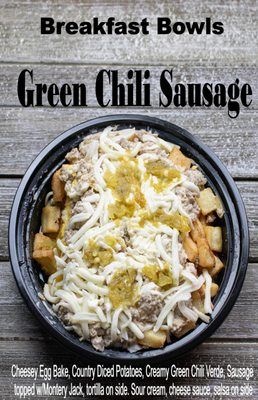sushi: (2, 118, 252, 368)
